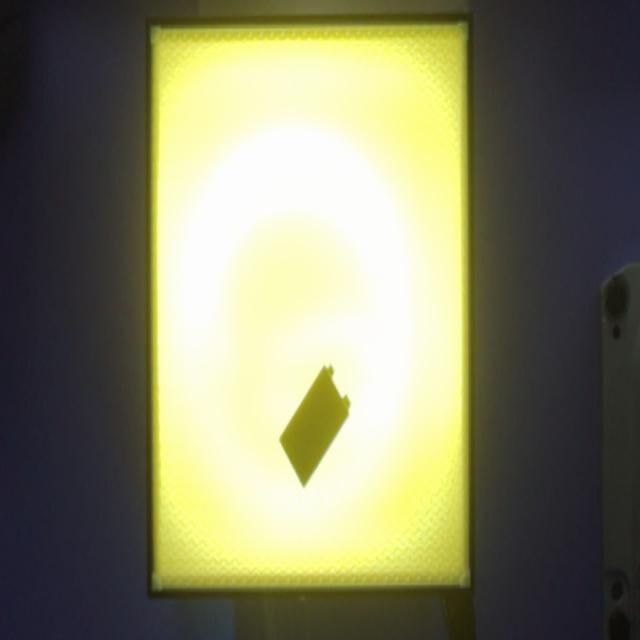bateria: (278, 364, 351, 488)
mesa: (146, 13, 474, 600)
